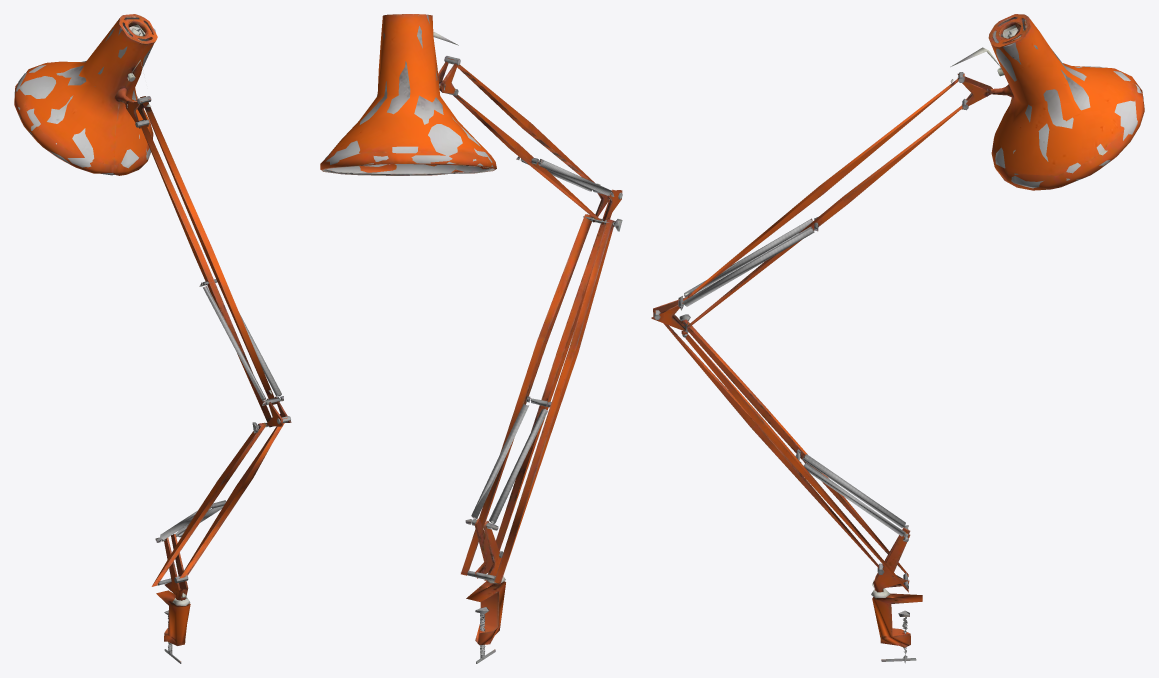
Rendered from desk_lamp_arm_01.glb.
The picture shows the model from 3 angles, left to right: view 1: azimuth 30°, elevation 25°; view 2: azimuth 150°, elevation 25°; view 3: azimuth 270°, elevation 25°; orthographic projection. The views are drawn at different scales.
Visible parts, largest first — view 1: desk_lamp_arm_01; view 2: desk_lamp_arm_01; view 3: desk_lamp_arm_01.
Boxes of the visible parts, box(x1,y1,x2,y2) form: desk_lamp_arm_01: box(14, 14, 291, 663); desk_lamp_arm_01: box(320, 14, 622, 663); desk_lamp_arm_01: box(651, 14, 1144, 663).
Bounding box in the file's own units: 0.2017 × 0.8926 × 0.6132.
Materials: 2 (2 with a texture image).
